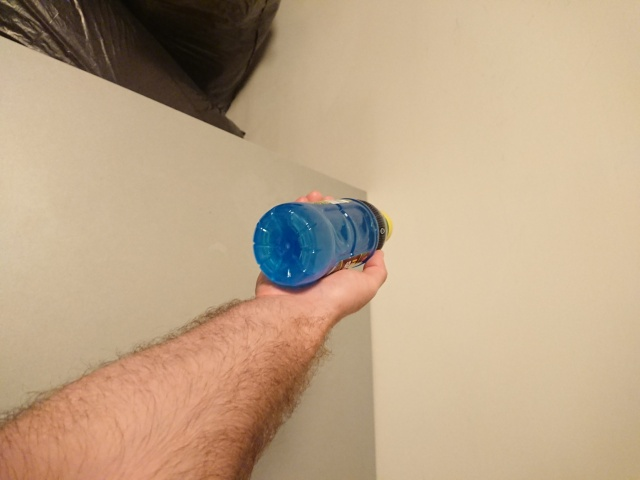Vindi Iso Sport Forest Strawberries 500mL: (251, 195, 393, 287)
